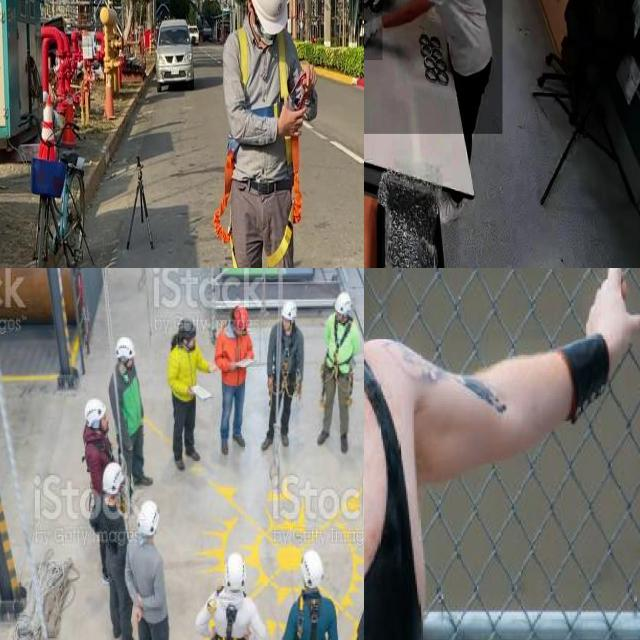Harness: (238, 25, 290, 117), (267, 137, 303, 268), (318, 312, 359, 396), (213, 149, 239, 268), (267, 320, 302, 400), (206, 597, 251, 640), (289, 593, 330, 640)
hand_glove: (364, 4, 383, 61), (364, 0, 390, 12)
hand_noglove: (575, 268, 640, 357)
person: (364, 268, 459, 640), (364, 0, 503, 134)
